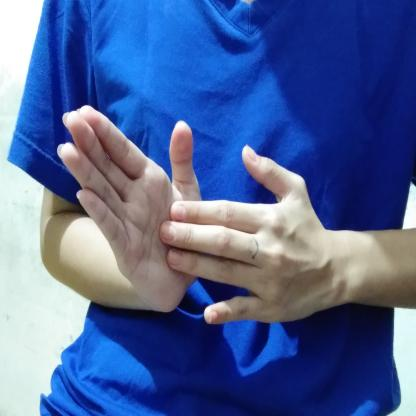mother: (53, 100, 375, 326)
